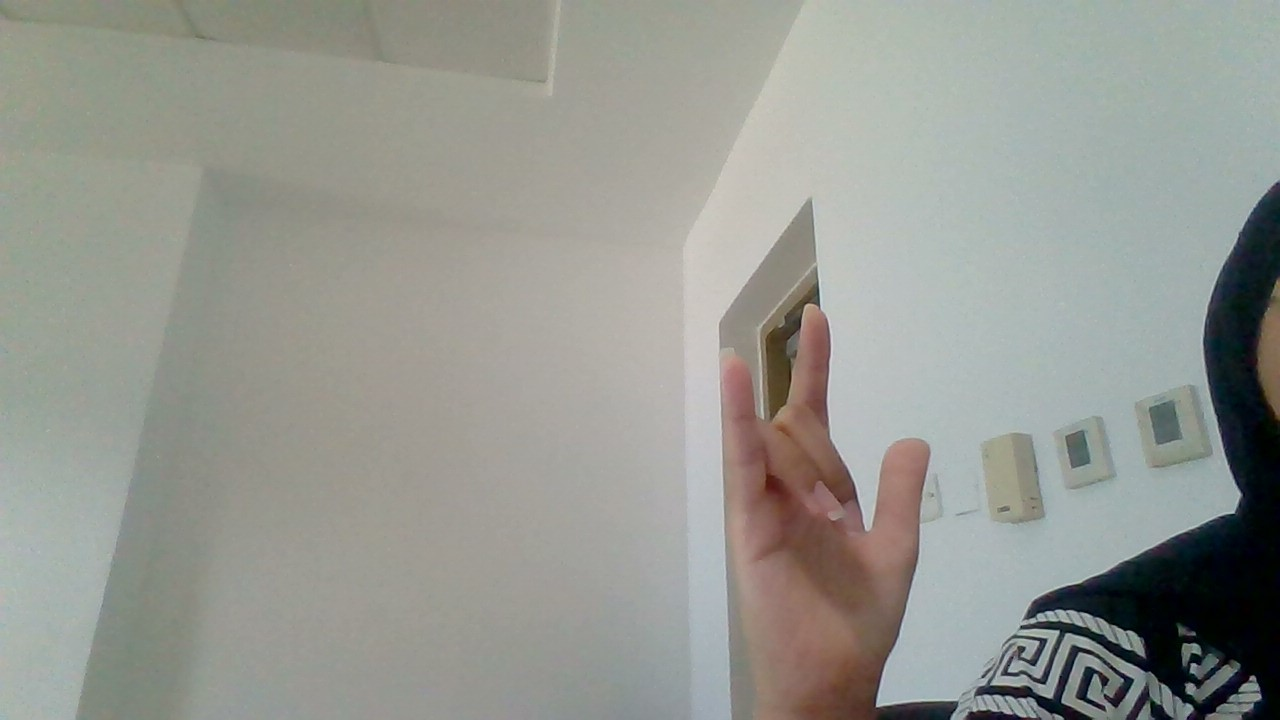love: (671, 291, 952, 713)
